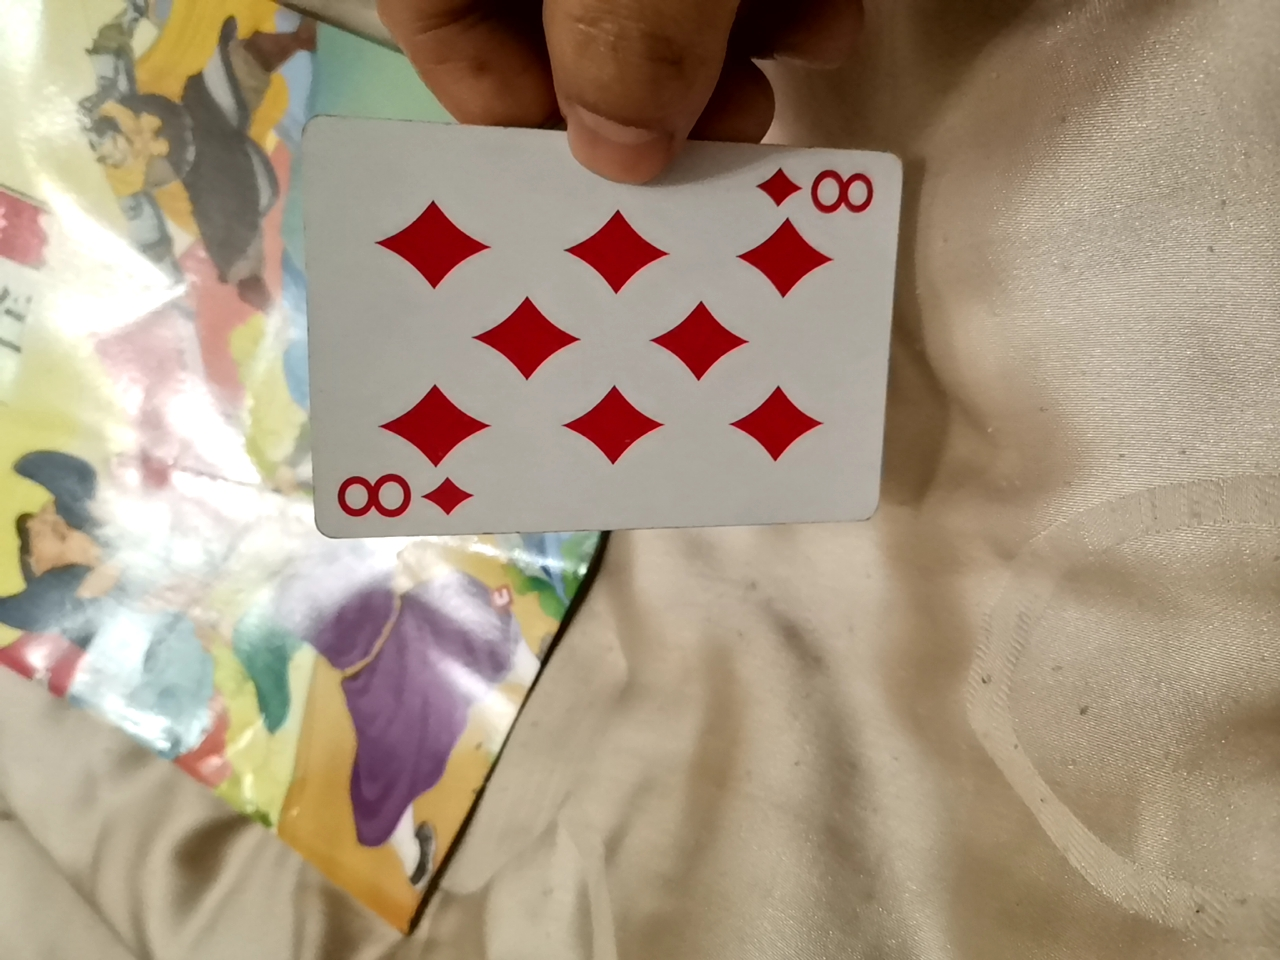fk 8: (339, 124, 906, 541)
